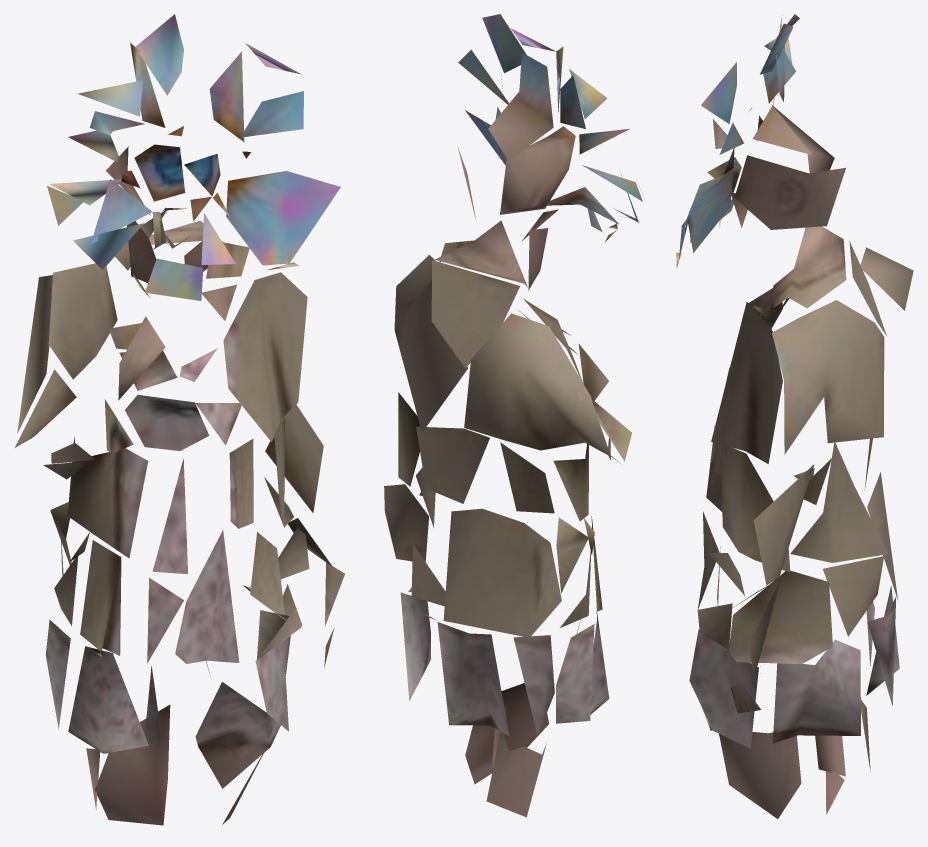
Rendered from crowd_rosemary_lite.glb.
3 views of the same model, side by side, from view 1: azimuth 30°, elevation 25°; view 2: azimuth 150°, elevation 25°; view 3: azimuth 270°, elevation 25° (orthographic). The views are drawn at different scales.
Parts seen in each view (by area): view 1: tripo_node_c2bd8c0d-a308-427d-9c4a-32c9a3a762b1; view 2: tripo_node_c2bd8c0d-a308-427d-9c4a-32c9a3a762b1; view 3: tripo_node_c2bd8c0d-a308-427d-9c4a-32c9a3a762b1.
Boxes of the visible parts, box(x1,y1,x2,y2) form: tripo_node_c2bd8c0d-a308-427d-9c4a-32c9a3a762b1: box(14, 14, 344, 825); tripo_node_c2bd8c0d-a308-427d-9c4a-32c9a3a762b1: box(384, 14, 645, 817); tripo_node_c2bd8c0d-a308-427d-9c4a-32c9a3a762b1: box(676, 14, 913, 818).
Size of the model in its own units: 0.6959 by 1.84 by 0.5035.
Materials: 1 (1 with a texture image).
